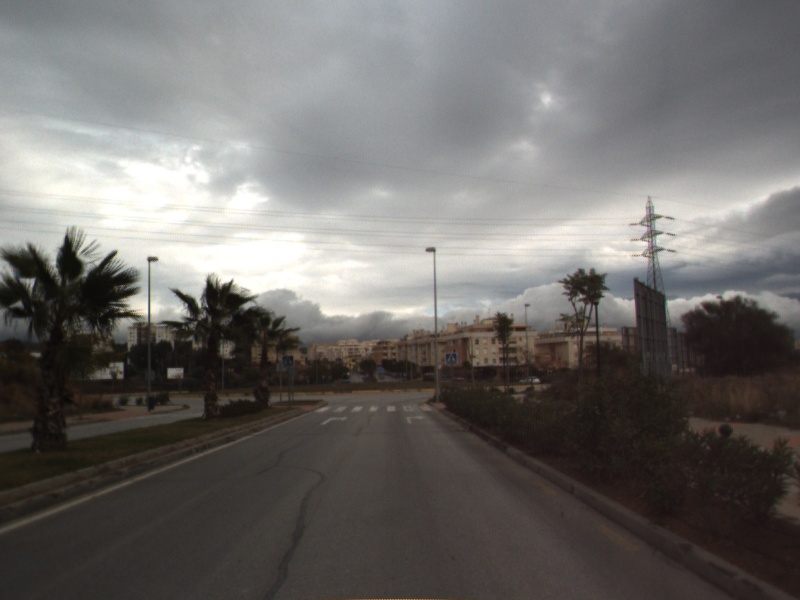RIGHT: (318, 414, 350, 427), (403, 413, 426, 425)
